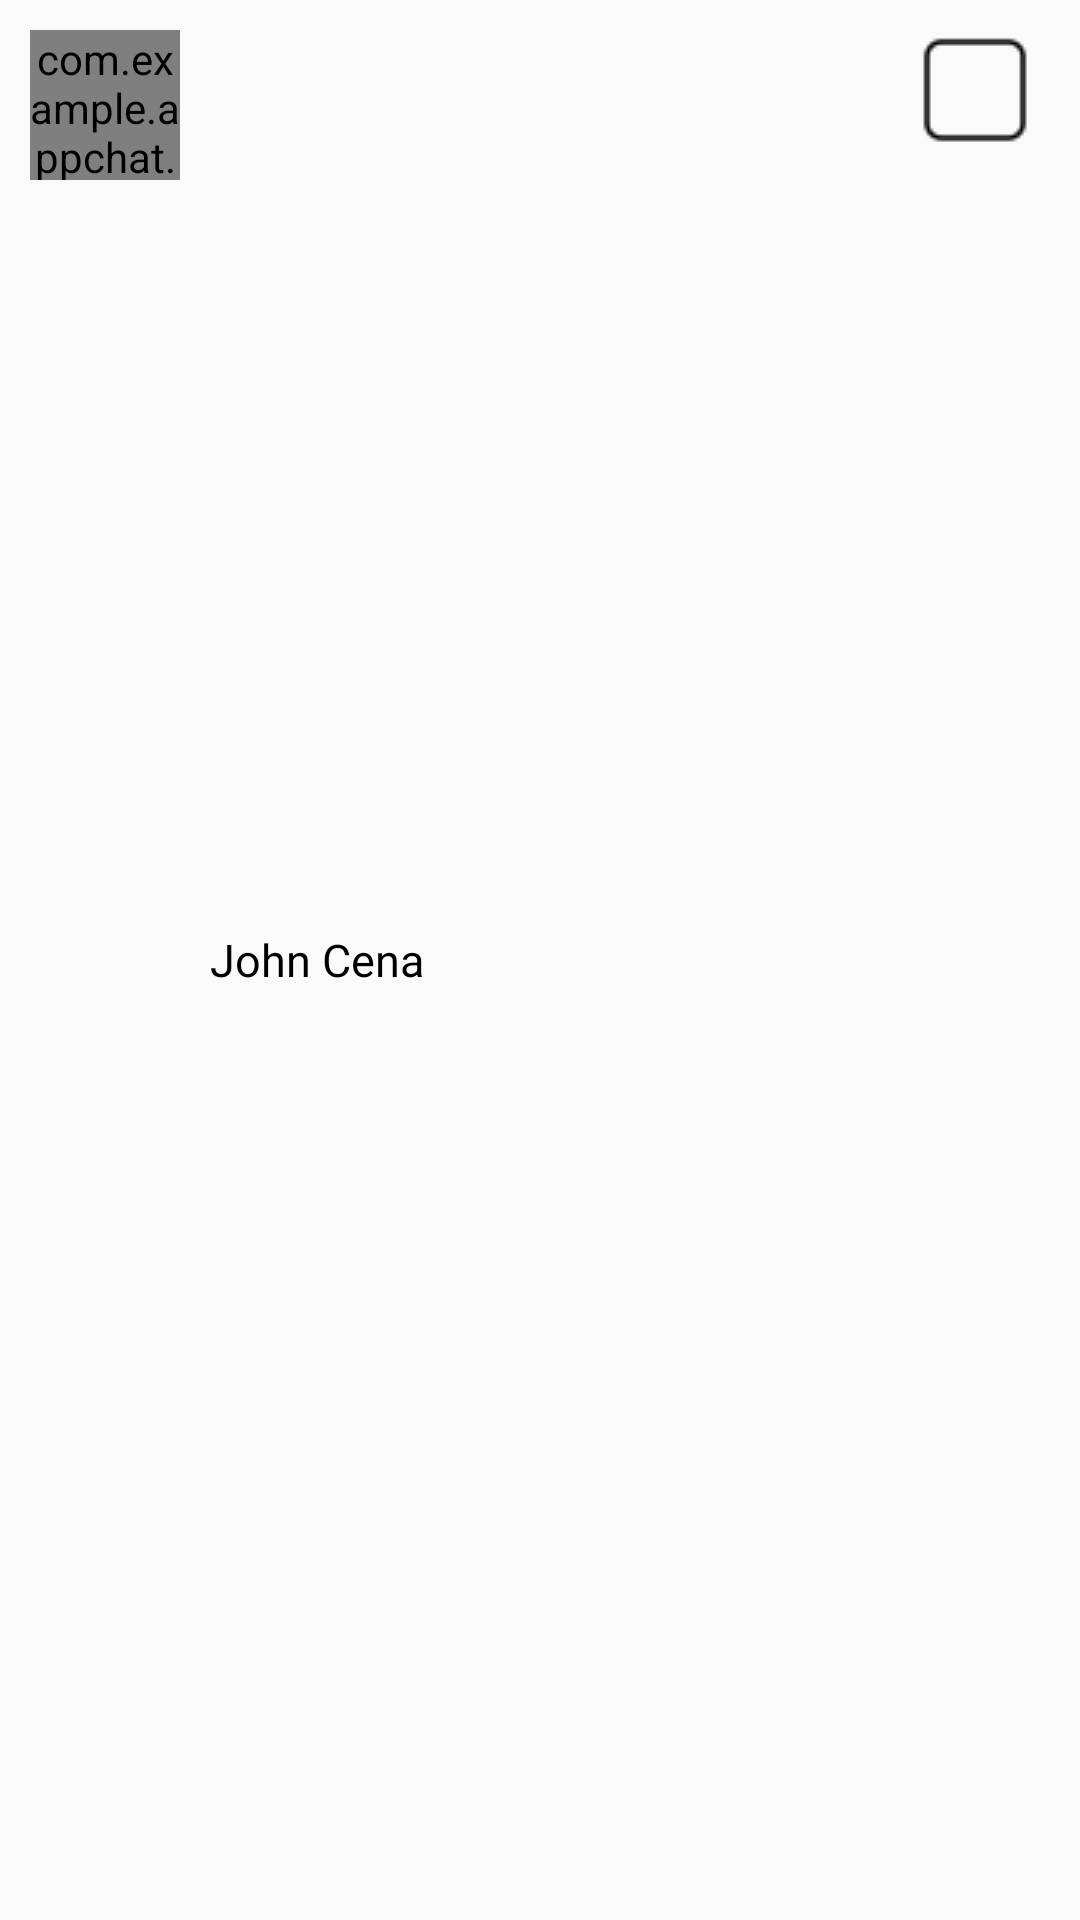

Where to tap for icons on this 1080x1920 app screen, as (x=x, y=y):
custom checkbox: (x=975, y=90)
